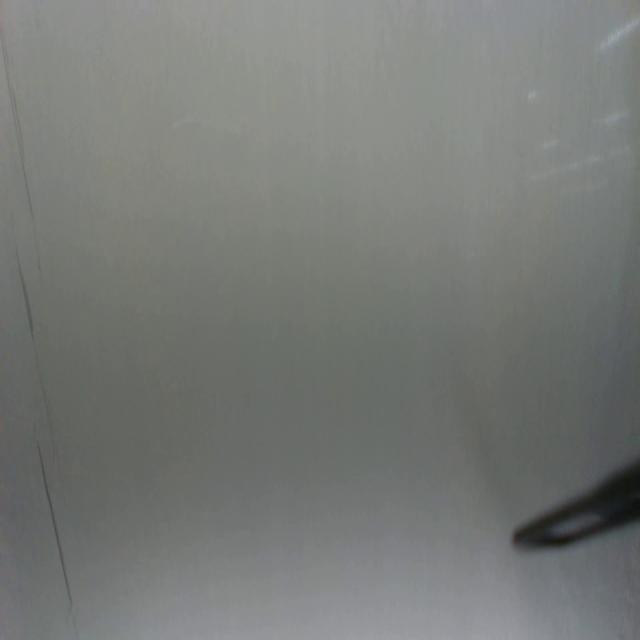crease: (12, 222, 54, 444), (37, 440, 74, 613), (0, 28, 34, 214)
